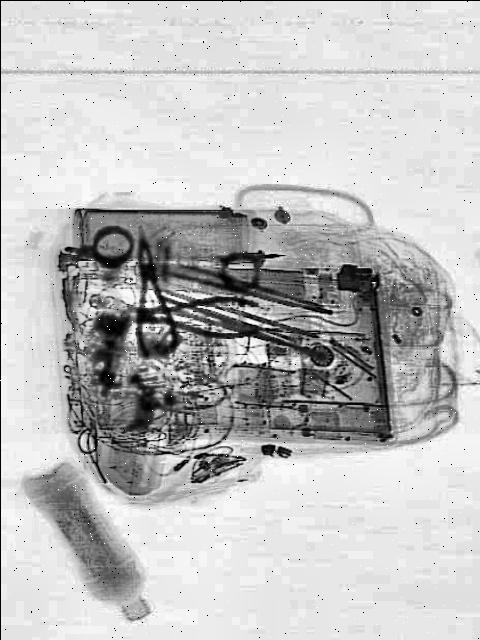Pliers: (120, 218, 182, 358), (118, 287, 262, 339)
